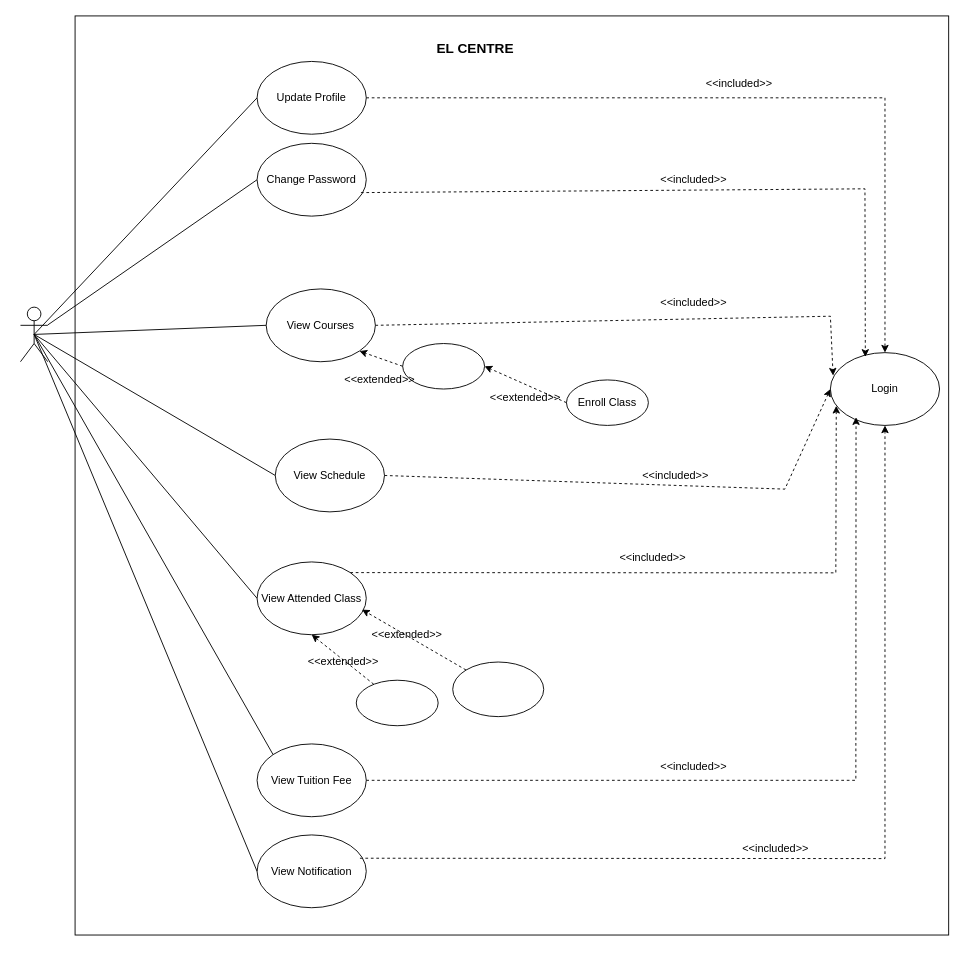
Some shapes in this 965 by 958 pixel diagram are drawn without their labels. The centre of each missing label's shape, as x and y in pixels:
"Student" belongs at pixel 34 334.
"View Attendance" belongs at pixel 396 702.
"View Class" belongs at pixel 443 366.
"View Homework" belongs at pixel 498 689.
